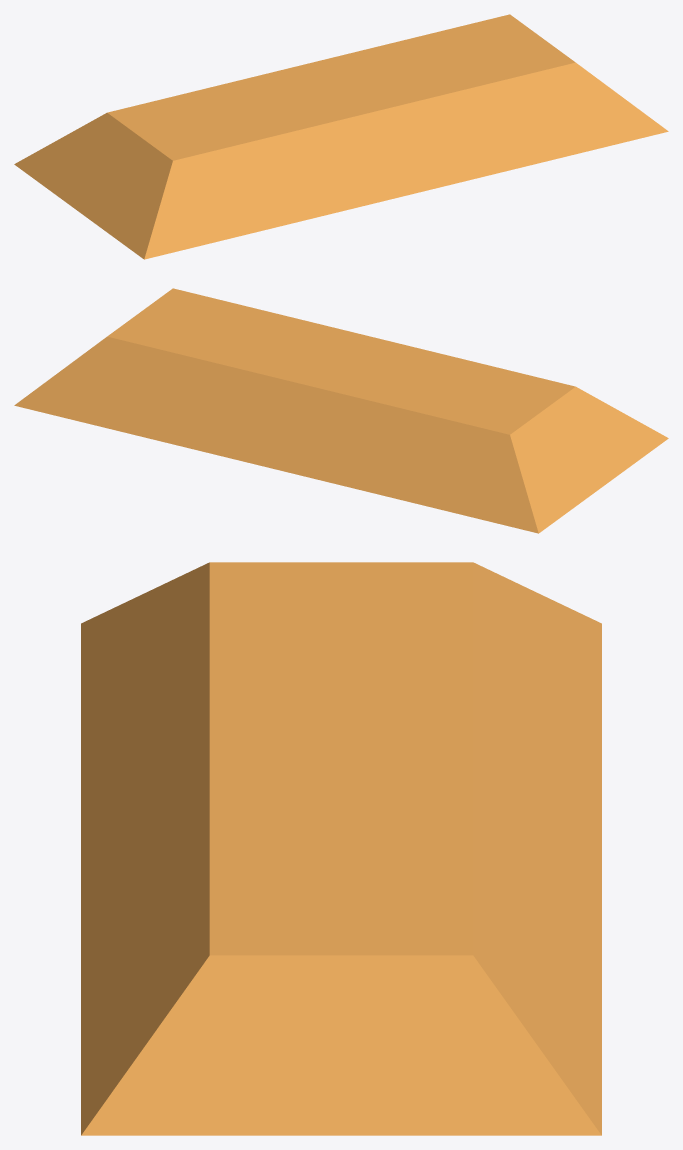
The model's file is BronzeBar.glb.
3 renders of one model, top to bottom at view 1: azimuth 30°, elevation 25°; view 2: azimuth 150°, elevation 25°; view 3: azimuth 270°, elevation 25°, orthographic. The views are drawn at different scales.
Visible parts, largest first — view 1: BronzeBar; view 2: BronzeBar; view 3: BronzeBar.
Boxes of the visible parts, bbox=[...] form: BronzeBar: bbox=[14, 14, 668, 259]; BronzeBar: bbox=[14, 288, 668, 533]; BronzeBar: bbox=[81, 562, 601, 1135].
Bounding box in the file's own units: 4.19 × 0.4602 × 1.8.
